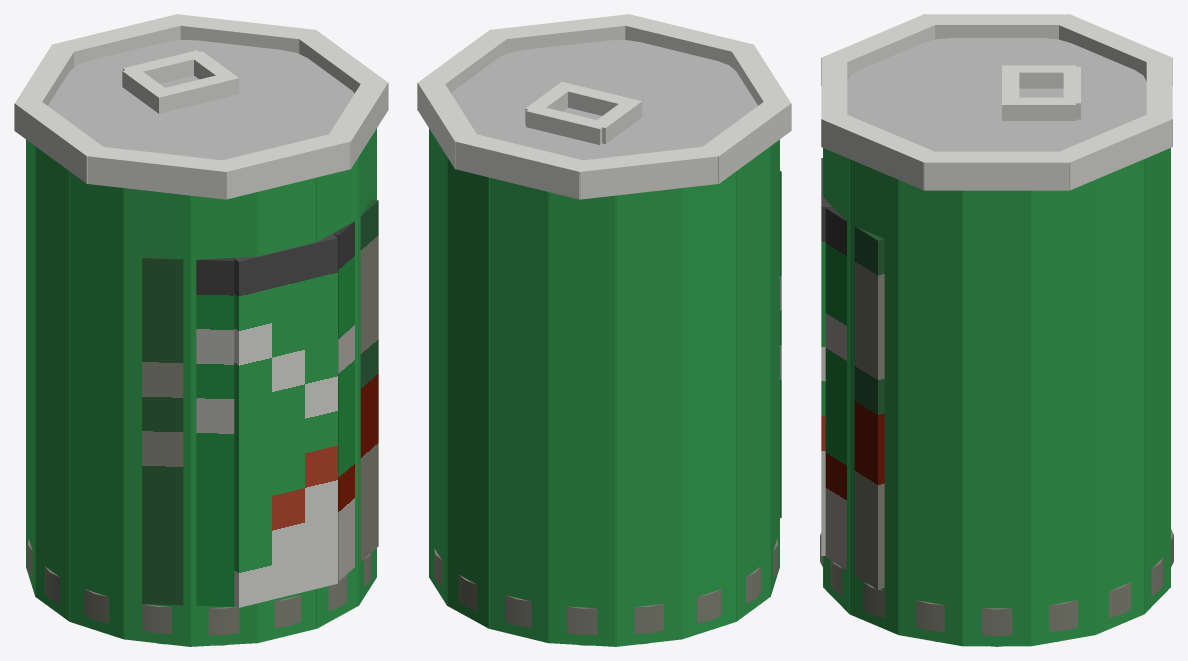
The model's file is CMU3DCMDrinkCanMountainWindDrinksExtraCloud.glb.
3 renders of one model, left to right at view 1: azimuth 30°, elevation 25°; view 2: azimuth 150°, elevation 25°; view 3: azimuth 270°, elevation 25°, orthographic.
Visible parts, largest first — view 1: source front label tangent 1, source front label tangent 0, hollow printed aluminium body 09, unbroken recessed aluminium lid, hollow printed aluminium body 10, hollow printed aluminium body 08, source front label tangent 2, hollow printed aluminium body 11, hollow printed aluminium body 12, hollow printed aluminium body 13, raised upper seam 06, raised upper seam 07 (+13 smaller); view 2: hollow printed aluminium body 05, hollow printed aluminium body 06, hollow printed aluminium body 04, hollow printed aluminium body 07, unbroken recessed aluminium lid, hollow printed aluminium body 03, hollow printed aluminium body 08, hollow printed aluminium body 02, raised upper seam 04, raised upper seam 03, rolled bottom seam, hollow printed aluminium body 09 (+11 smaller); view 3: hollow printed aluminium body 00, hollow printed aluminium body 01, hollow printed aluminium body 15, unbroken recessed aluminium lid, hollow printed aluminium body 02, source front label tangent 2, hollow printed aluminium body 14, hollow printed aluminium body 03, raised upper seam 01, rolled bottom seam, raised upper seam 02, raised upper seam 08 (+11 smaller).
Boxes of the visible parts, <box> form: source front label tangent 1: <box>234,234,337,607</box>; source front label tangent 0: <box>142,255,234,606</box>; hollow printed aluminium body 09: <box>69,171,124,639</box>; unbroken recessed aluminium lid: <box>48,40,354,160</box>; hollow printed aluminium body 10: <box>123,188,190,646</box>; hollow printed aluminium body 08: <box>35,146,69,621</box>; source front label tangent 2: <box>332,199,378,581</box>; hollow printed aluminium body 11: <box>189,192,258,646</box>; hollow printed aluminium body 12: <box>257,177,317,643</box>; hollow printed aluminium body 13: <box>316,156,359,628</box>; raised upper seam 06: <box>86,145,232,199</box>; raised upper seam 07: <box>213,132,351,199</box>; hollow printed aluminium body 05: <box>547,192,616,646</box>; hollow printed aluminium body 06: <box>615,188,682,646</box>; hollow printed aluminium body 04: <box>488,177,548,643</box>; hollow printed aluminium body 07: <box>681,171,736,639</box>; unbroken recessed aluminium lid: <box>451,40,757,160</box>; hollow printed aluminium body 03: <box>446,156,489,628</box>; hollow printed aluminium body 08: <box>736,146,770,621</box>; hollow printed aluminium body 02: <box>429,128,447,605</box>; raised upper seam 04: <box>578,145,719,199</box>; raised upper seam 03: <box>454,132,592,199</box>; rolled bottom seam: <box>434,539,778,635</box>; hollow printed aluminium body 09: <box>770,140,779,596</box>; hollow printed aluminium body 00: <box>962,190,1031,646</box>; hollow printed aluminium body 01: <box>1031,179,1095,646</box>; hollow printed aluminium body 15: <box>898,179,962,646</box>; unbroken recessed aluminium lid: <box>847,38,1146,151</box>; hollow printed aluminium body 02: <box>1095,159,1144,634</box>; source front label tangent 2: <box>825,207,884,589</box>; hollow printed aluminium body 14: <box>849,159,898,634</box>; hollow printed aluminium body 03: <box>1144,148,1170,614</box>; raised upper seam 01: <box>923,151,1070,190</box>; rolled bottom seam: <box>820,529,1173,636</box>; raised upper seam 02: <box>1060,111,1172,190</box>; raised upper seam 08: <box>821,112,933,190</box>.
Size of what is drawn, in the model's own units: 0.287 by 0.4425 by 0.287.
8 materials, 3 textured.
